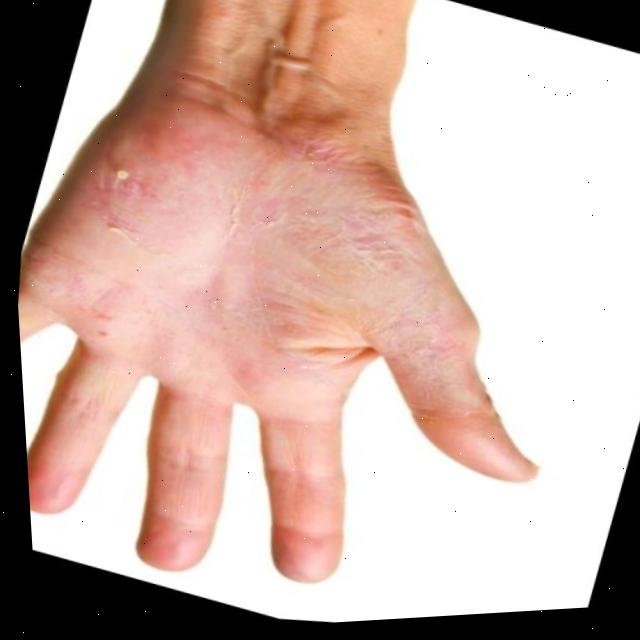Eczema: (16, 81, 511, 476)
